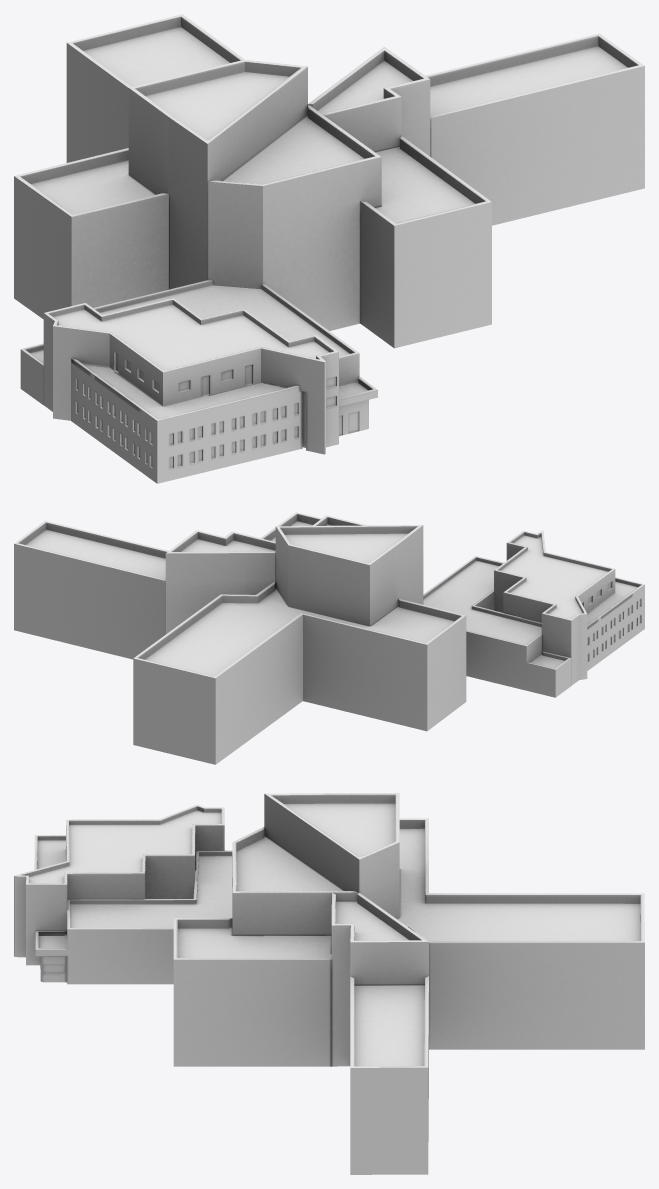
The model's file is kavala_building07.glb.
3 renders of one model, top to bottom at view 1: azimuth 30°, elevation 25°; view 2: azimuth 150°, elevation 25°; view 3: azimuth 270°, elevation 25°, orthographic. The views are drawn at different scales.
Parts seen in each view (by area): view 1: building_v004; view 2: building_v004; view 3: building_v004.
Boxes of the visible parts, x1,y1,x2,y2 form: building_v004: (14, 14, 644, 483); building_v004: (14, 512, 644, 764); building_v004: (14, 793, 644, 1174).
Bounding box in the file's own units: 6.97 × 1.95 × 6.42.
Materials: 1 (1 with a texture image).
